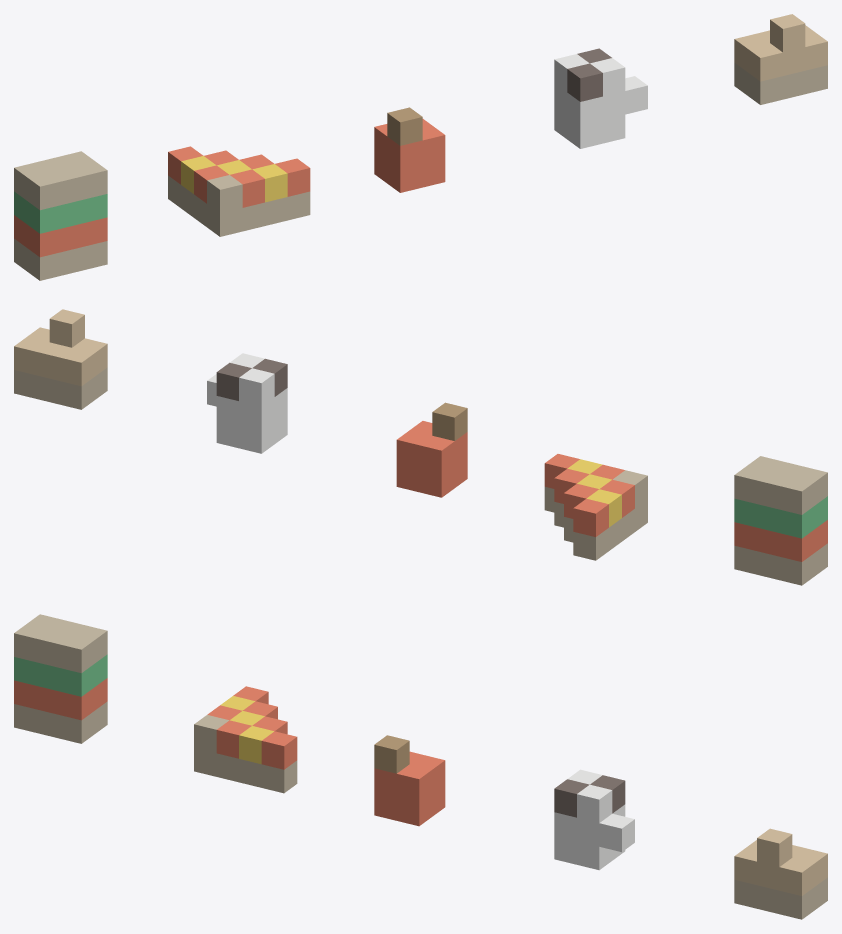
The model's file is cibo.glb.
3 renders of one model, top to bottom at view 1: azimuth 30°, elevation 25°; view 2: azimuth 150°, elevation 25°; view 3: azimuth 330°, elevation 25°, orthographic.
Parts seen in each view (by area): view 1: cibo_panino, cibo_pizza, cibo_tazza, cibo_brioche, cibo_mela; view 2: cibo_panino, cibo_pizza, cibo_brioche, cibo_tazza, cibo_mela; view 3: cibo_panino, cibo_pizza, cibo_tazza, cibo_brioche, cibo_mela.
Boxes of the visible parts, x1,y1,x2,y2 form: cibo_panino: (14,151,107,280); cibo_pizza: (168,146,310,236); cibo_tazza: (554,48,647,148); cibo_brioche: (734,14,827,104); cibo_mela: (374,107,445,192); cibo_panino: (734,456,827,585); cibo_pizza: (544,454,647,560); cibo_brioche: (14,309,107,409); cibo_tazza: (207,353,287,453); cibo_mela: (396,402,467,497); cibo_panino: (14,614,107,743); cibo_pizza: (194,686,297,793); cibo_tazza: (554,769,634,870); cibo_brioche: (734,828,827,919); cibo_mela: (374,735,445,826).
Size of the model in its own units: 1.75 by 0.2 by 0.2.
